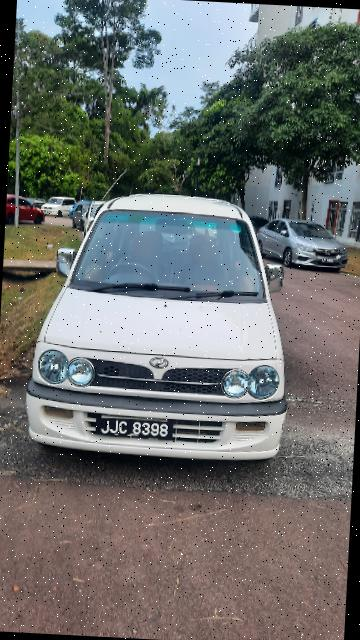License_Plate: (89, 407, 177, 443)
car: (18, 184, 298, 468)
